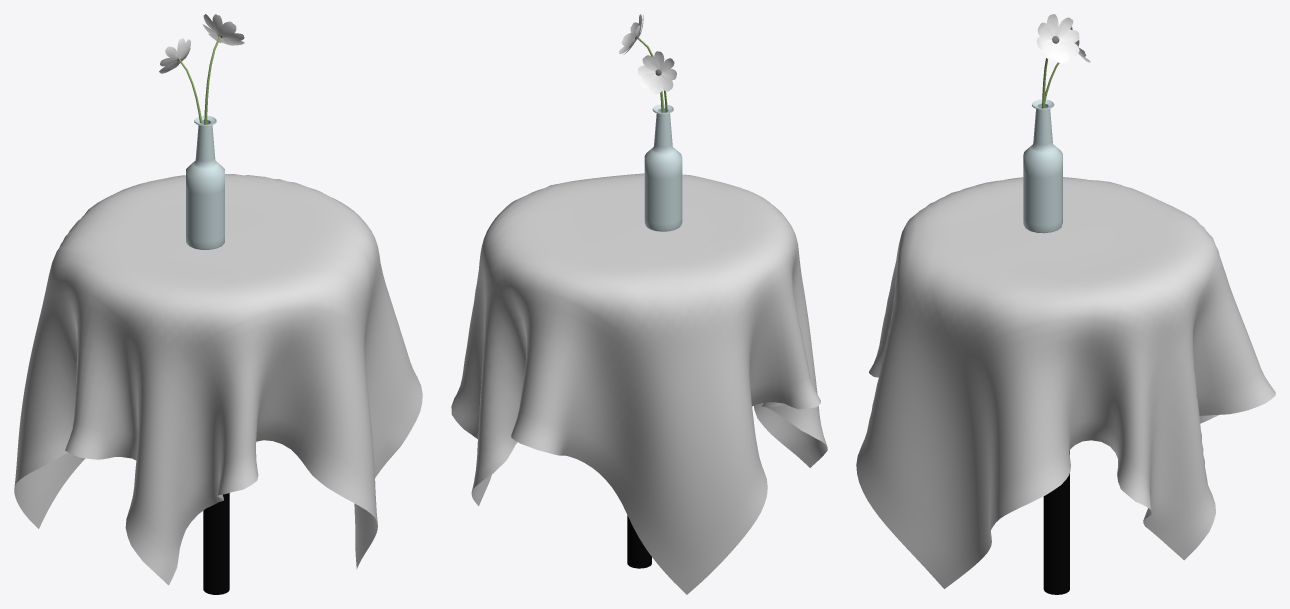
The model's file is dining_butterfly.gltf.
3 views of the same model, side by side, from view 1: azimuth 30°, elevation 25°; view 2: azimuth 150°, elevation 25°; view 3: azimuth 270°, elevation 25° (orthographic). The views are drawn at different scales.
Parts seen in each view (by area): view 1: cloth, vase, table, flower1, flower2; view 2: cloth, vase, flower2, table, flower1; view 3: cloth, vase, table, flower1.
Boxes of the visible parts, box(x1,y1,x2,y2) form: cloth: box(14, 174, 422, 585); vase: box(186, 115, 224, 249); table: box(203, 493, 229, 594); flower1: box(202, 14, 244, 124); flower2: box(159, 38, 202, 123); cloth: box(451, 173, 827, 594); vase: box(644, 104, 682, 231); flower2: box(637, 51, 676, 112); table: box(627, 515, 651, 568); flower1: box(619, 14, 664, 112); cloth: box(856, 177, 1275, 588); vase: box(1023, 99, 1062, 233); table: box(1043, 450, 1069, 594); flower1: box(1036, 14, 1079, 108).
Size of the model in its own units: 0.8576 by 1.33 by 0.8788.
